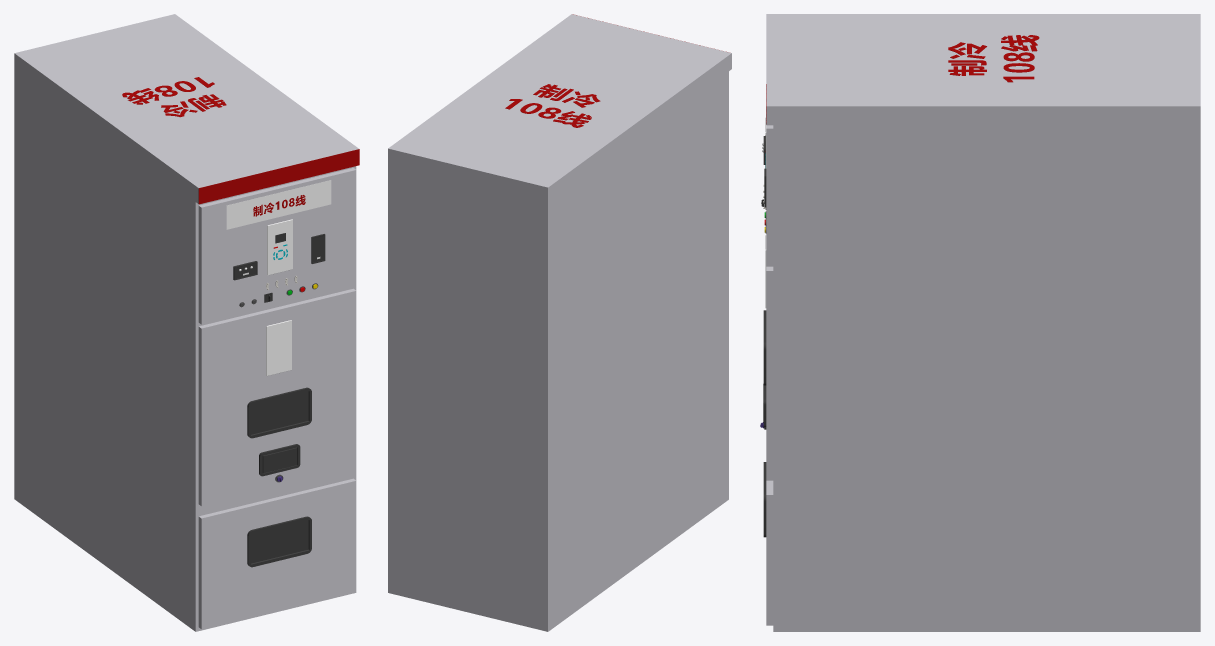
File: 3-10-processed.gltf
3 renders of one model, left to right at view 1: azimuth 30°, elevation 25°; view 2: azimuth 150°, elevation 25°; view 3: azimuth 270°, elevation 25°, orthographic. The views are drawn at different scales.
Visible parts, largest first — view 1: Rectangle8928, Rectangle8931, Rectangle8930, Rectangle8929, Obj3d66_1138023_124_1067, Obj3d66_1138023_124_1066, Text382, Obj3d66_1138023_187_734, Obj3d66_1138023_187_733, Obj3d66_1138023_127_227; view 2: Rectangle8928, Text382; view 3: Rectangle8928, Rectangle8931, Text382.
Boxes of the visible parts, x1=… form: Rectangle8928: x1=14, y1=14, x2=358, y2=631; Rectangle8931: x1=198, y1=168, x2=356, y2=629; Rectangle8930: x1=198, y1=149, x2=359, y2=204; Rectangle8929: x1=226, y1=180, x2=331, y2=229; Obj3d66_1138023_124_1067: x1=247, y1=516, x2=311, y2=567; Obj3d66_1138023_124_1066: x1=247, y1=387, x2=311, y2=438; Text382: x1=122, y1=77, x2=226, y2=117; Obj3d66_1138023_187_734: x1=266, y1=320, x2=291, y2=375; Obj3d66_1138023_187_733: x1=267, y1=219, x2=292, y2=275; Obj3d66_1138023_127_227: x1=259, y1=444, x2=300, y2=476; Rectangle8928: x1=388, y1=14, x2=731, y2=631; Text382: x1=505, y1=84, x2=600, y2=127; Rectangle8928: x1=766, y1=14, x2=1200, y2=631; Rectangle8931: x1=766, y1=125, x2=773, y2=625; Text382: x1=948, y1=35, x2=1039, y2=82.
Size of the model in its own units: 830 by 2201 by 1671.
